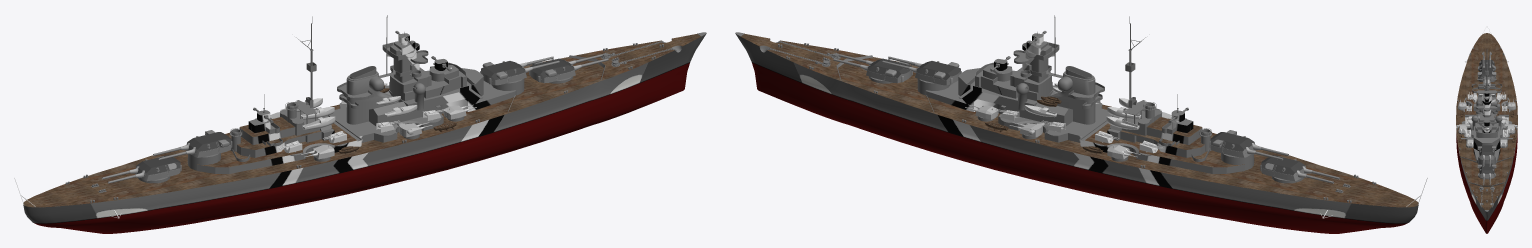
Rendered from bismarck.glb.
The picture shows the model from 3 angles, left to right: view 1: azimuth 30°, elevation 25°; view 2: azimuth 150°, elevation 25°; view 3: azimuth 270°, elevation 25°; orthographic projection. The views are drawn at different scales.
Bounding box in the file's own units: 255 × 57.97 × 35.96.
Materials: 13 (3 with a texture image).
